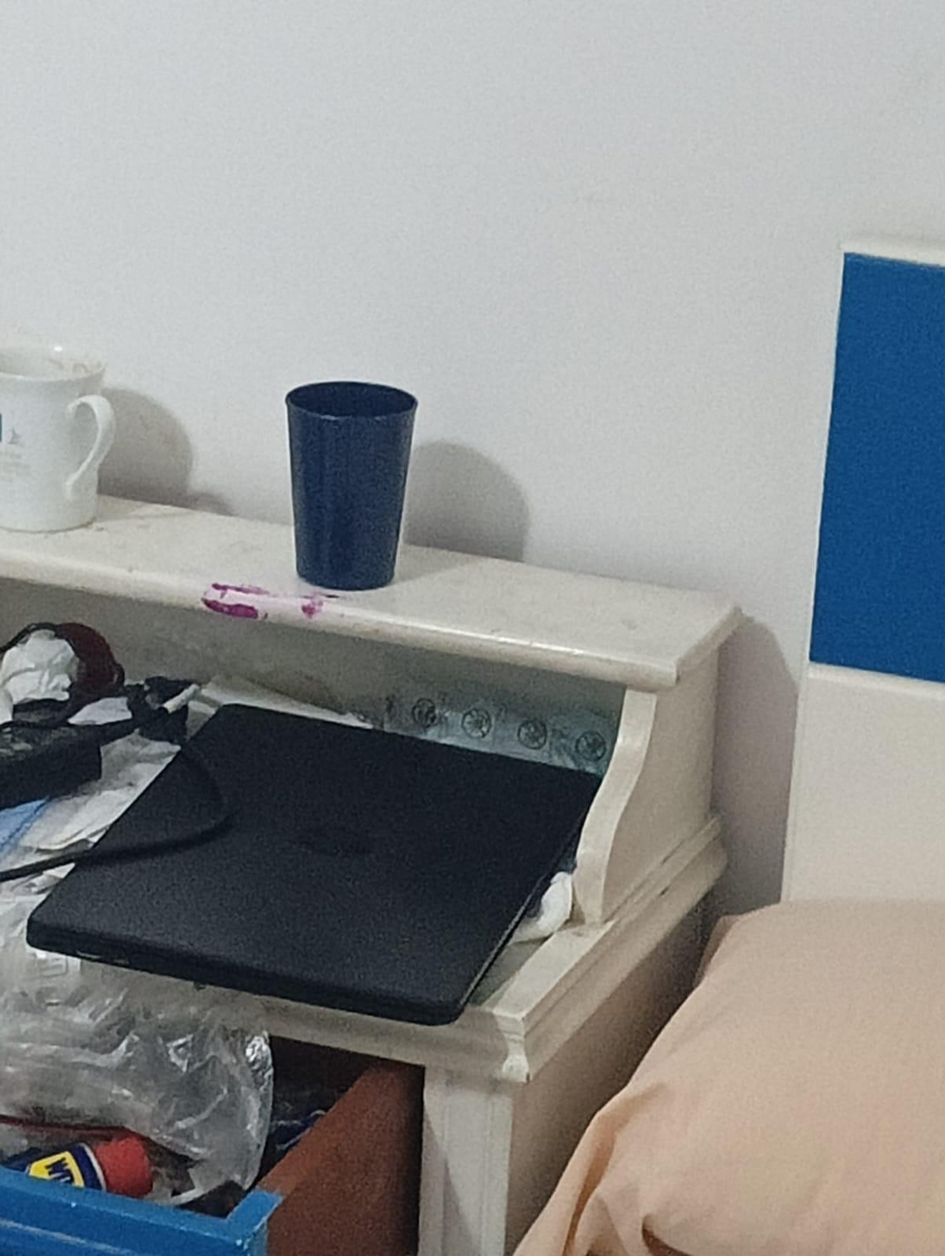cup: (286, 382, 416, 590), (0, 346, 114, 531)
